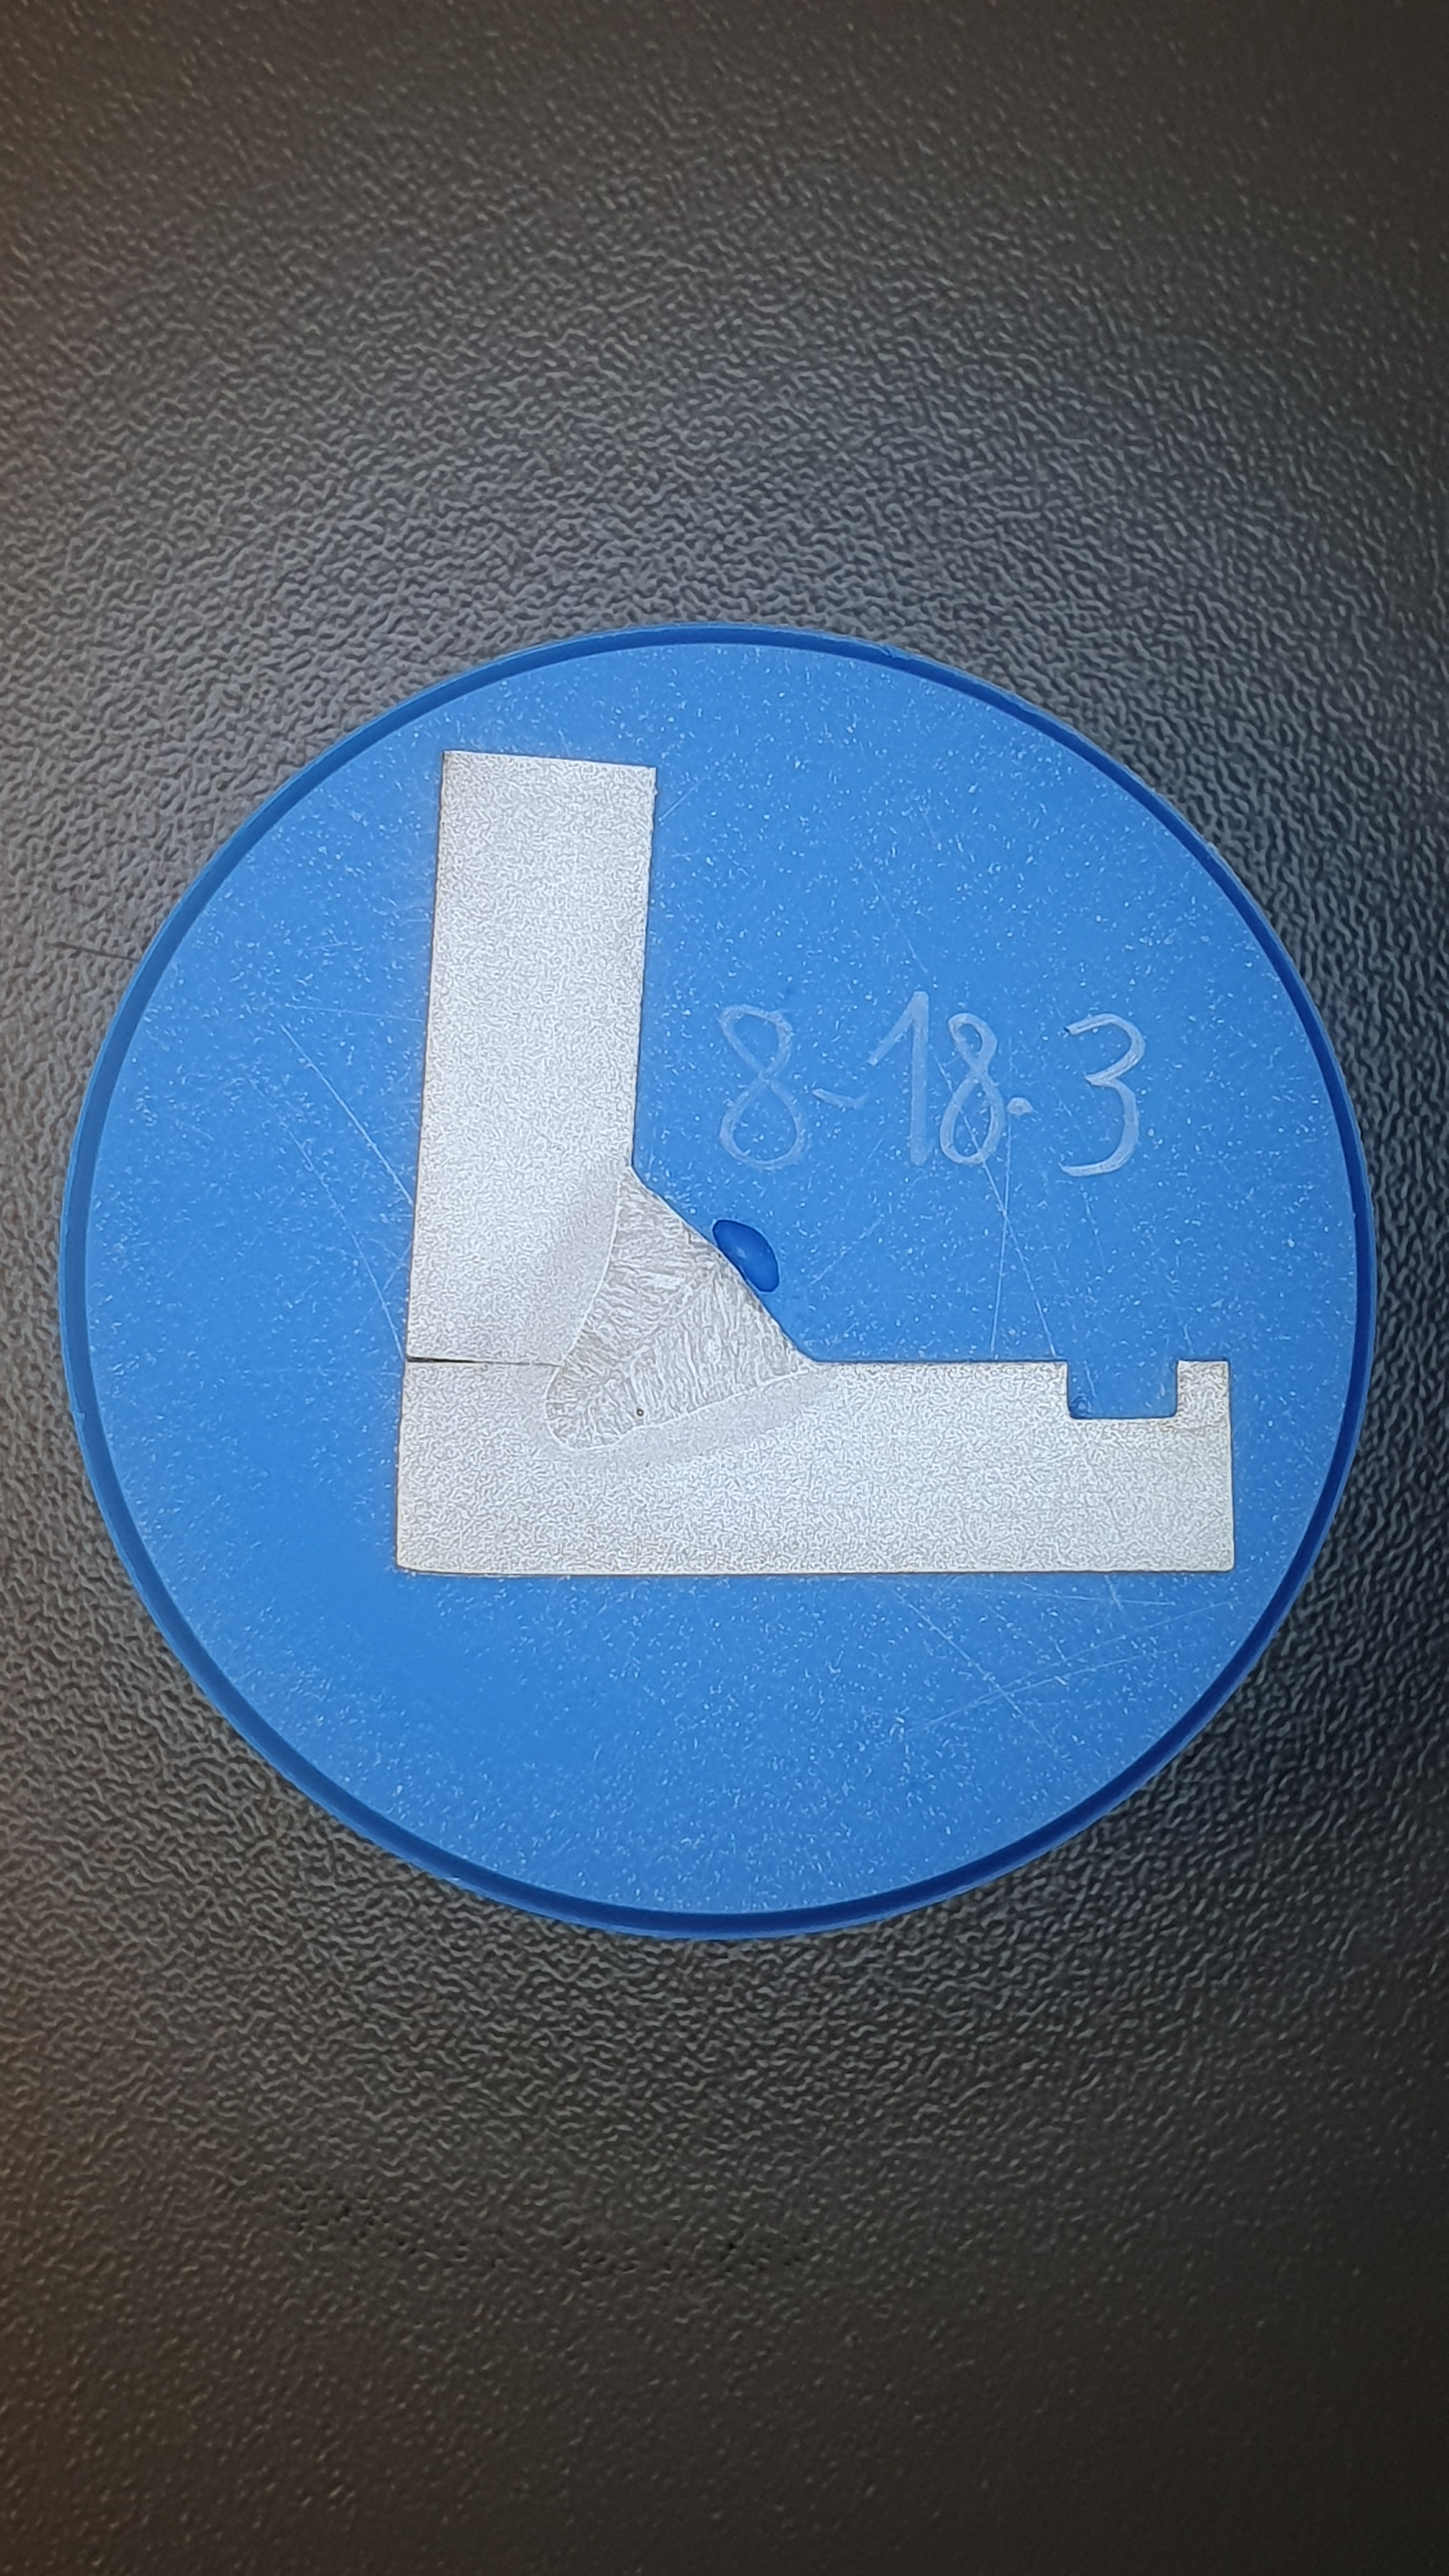Fusion: (545, 1166, 817, 1451)
Hintergrund: (88, 640, 1352, 1913)
Metall: (396, 748, 1235, 1576)
Nebenbereich: (511, 1141, 840, 1481)
